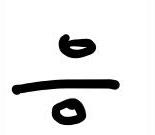div: (12, 34, 120, 125)
